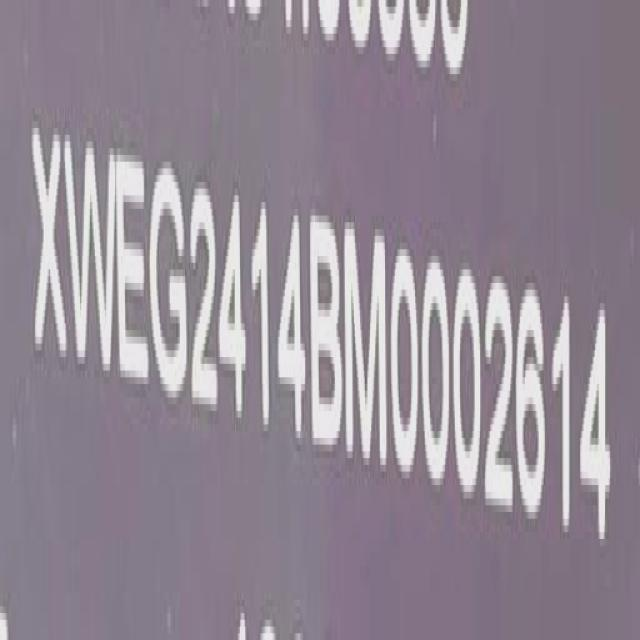0: (421, 242, 451, 496), (390, 245, 420, 479), (453, 262, 481, 512)
1: (550, 299, 576, 546), (248, 192, 273, 434)
2: (484, 279, 516, 524), (190, 182, 219, 427)
3: (116, 140, 150, 412)
4: (215, 165, 248, 432), (577, 297, 611, 539), (276, 207, 308, 439)
6: (516, 279, 546, 532)
B: (309, 207, 343, 447)
G: (148, 132, 189, 422)
M: (343, 217, 389, 477)
W: (64, 110, 117, 394)
X: (31, 112, 68, 362)
